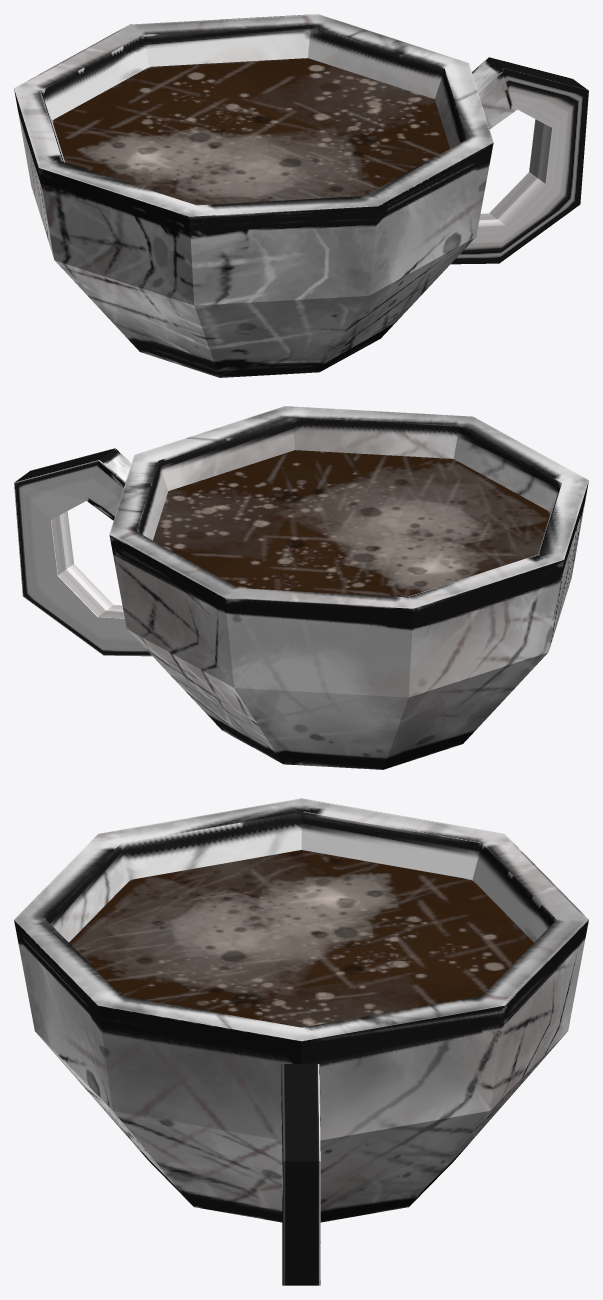
File: mug_coffee.glb
3 views of the same model, one above another, from view 1: azimuth 30°, elevation 25°; view 2: azimuth 150°, elevation 25°; view 3: azimuth 270°, elevation 25° (orthographic). The views are drawn at different scales.
Parts seen in each view (by area): view 1: Mug Empty.005; view 2: Mug Empty.005; view 3: Mug Empty.005.
Boxes of the visible parts, x1=… form: Mug Empty.005: x1=14, y1=14, x2=588, y2=377; Mug Empty.005: x1=14, y1=406, x2=588, y2=769; Mug Empty.005: x1=14, y1=798, x2=588, y2=1285.
Size of the model in its own units: 0.1894 by 0.0698 by 0.1503.
1 material, 1 textured.
